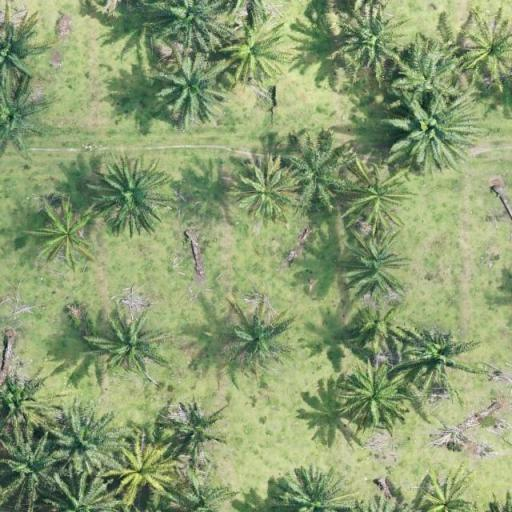Ganoderma: (39, 210, 93, 258), (117, 446, 164, 494), (241, 166, 288, 210), (354, 172, 401, 215), (470, 22, 512, 70), (234, 32, 274, 70), (428, 481, 464, 510)
